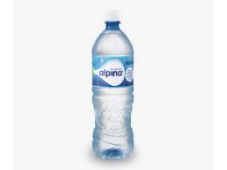Bottle: (92, 9, 134, 160)
